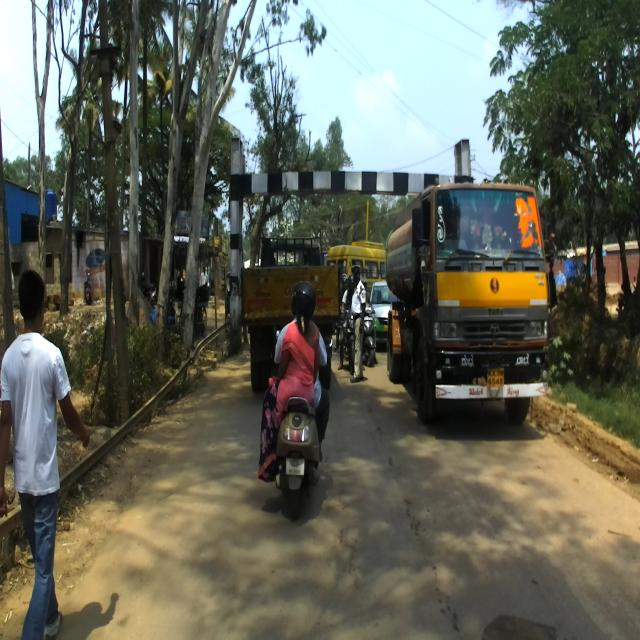motorcycle ahead at: (265, 397, 331, 530)
person ahead at: (0, 269, 84, 640), (347, 261, 372, 390)
tree ahead at: (96, 3, 130, 419)
truck ahead at: (386, 182, 547, 418)
